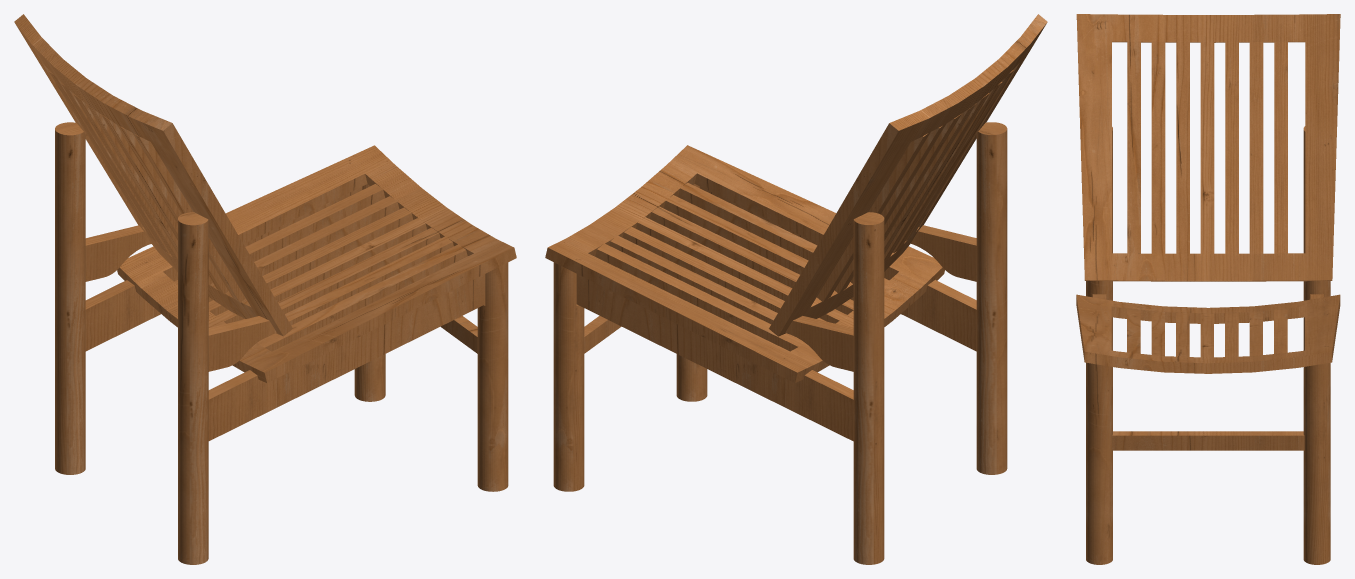
The model's file is chair.fbx.
3 views of the same model, side by side, from view 1: azimuth 30°, elevation 25°; view 2: azimuth 150°, elevation 25°; view 3: azimuth 270°, elevation 25° (orthographic). The views are drawn at different scales.
Visible parts, largest first — view 1: final assy; view 2: final assy; view 3: final assy.
Boxes of the visible parts, box(x1,y1,x2,y2) form: final assy: box(14, 14, 516, 564); final assy: box(545, 14, 1047, 564); final assy: box(1076, 14, 1340, 564).
Size of the model in its own units: 140 by 163 by 97.1.
1 material, 1 textured.
